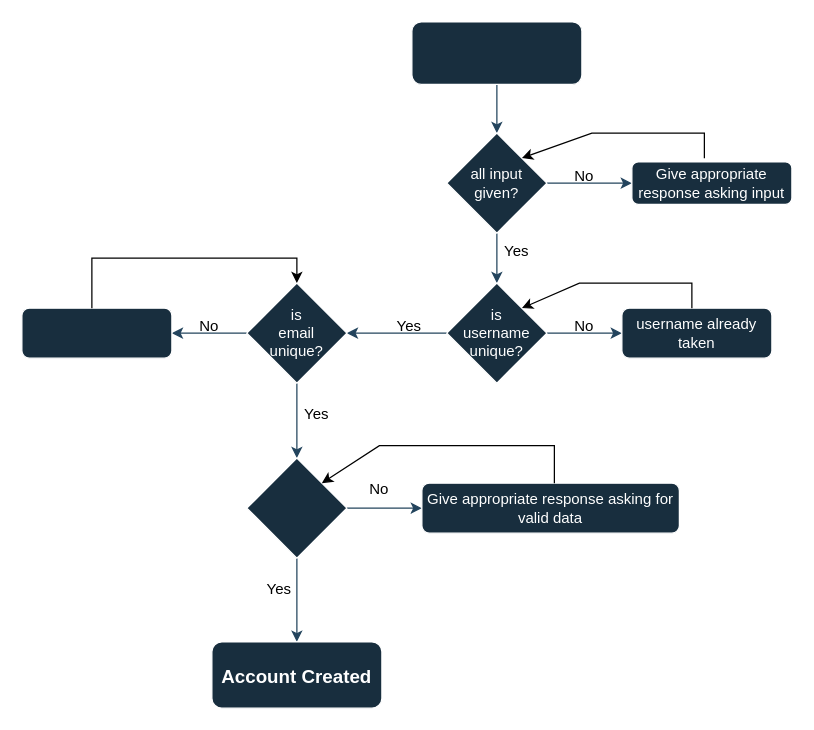
This 814x730 diagram has some shape labels left out. The shapes that lost their labels are listed below. From the top down, each one's centre as x and y in pixels, then its label:
At [496,52]: "Sign Up".
At [96,332]: "email already taken".
At [296,507]: "All data valid?".
